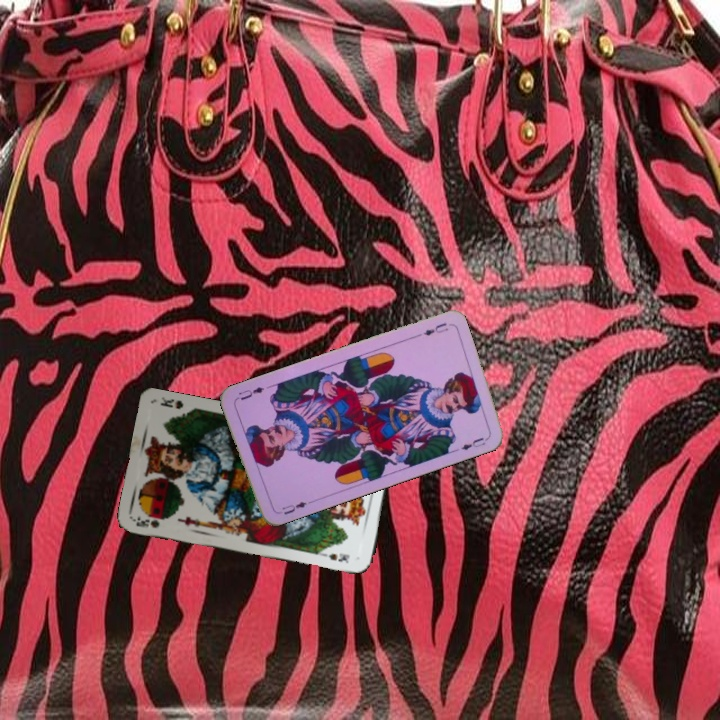EU: (274, 497, 310, 517), (419, 318, 451, 338)
SK: (131, 511, 168, 531)
